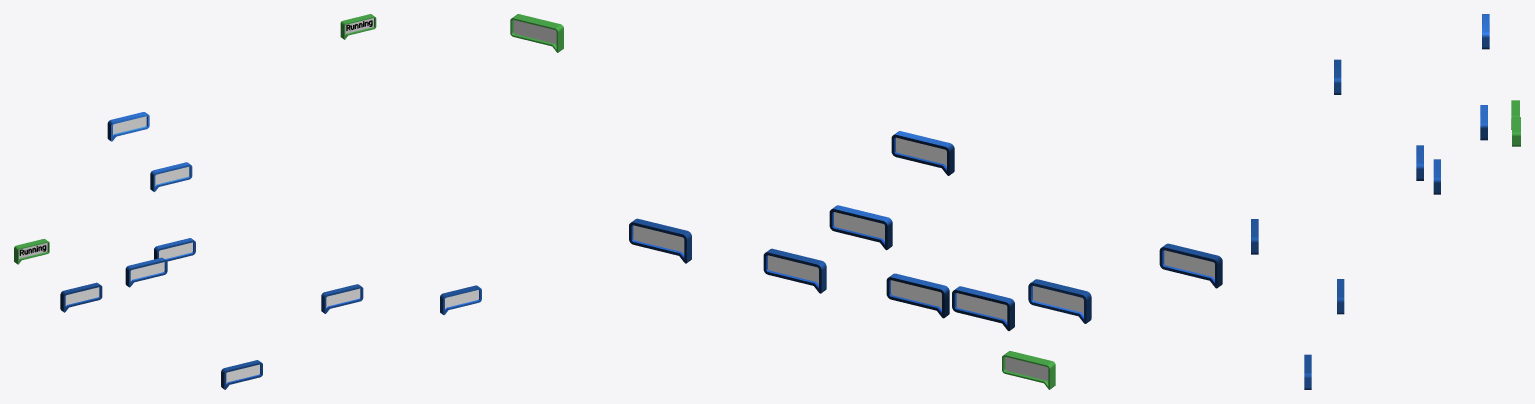
The model's file is pop_up_social_networks.glb.
3 views of the same model, side by side, from view 1: azimuth 30°, elevation 25°; view 2: azimuth 150°, elevation 25°; view 3: azimuth 270°, elevation 25° (orthographic). The views are drawn at different scales.
Visible parts, largest first — view 1: pop_up_contact_me, pop_up_social_networks, pop_up_games, pop_up_share_knowledge, pop_up_development, pop_up_running, pop_up_photography_left, pop_up_stereoscopy, pop_up_running.009, pop_up_running.003; view 2: pop_up_share_knowledge, pop_up_development, pop_up_social_networks, pop_up_games, pop_up_running, pop_up_stereoscopy, pop_up_photography_left, pop_up_contact_me, pop_up_running.003, pop_up_running.009; view 3: pop_up_running, pop_up_photography_left, pop_up_contact_me, pop_up_stereoscopy, pop_up_development, pop_up_social_networks, pop_up_share_knowledge, pop_up_games, pop_up_running.009.
Part boxes in pixels (x1=…): pop_up_contact_me: x1=125, y1=257, x2=167, y2=287; pop_up_social_networks: x1=107, y1=112, x2=149, y2=141; pop_up_games: x1=60, y1=282, x2=102, y2=312; pop_up_share_knowledge: x1=321, y1=284, x2=363, y2=313; pop_up_development: x1=150, y1=162, x2=192, y2=191; pop_up_running: x1=221, y1=360, x2=262, y2=389; pop_up_photography_left: x1=440, y1=285, x2=481, y2=314; pop_up_stereoscopy: x1=154, y1=238, x2=195, y2=261; pop_up_running.009: x1=340, y1=14, x2=376, y2=39; pop_up_running.003: x1=14, y1=238, x2=49, y2=264; pop_up_share_knowledge: x1=763, y1=248, x2=826, y2=293; pop_up_development: x1=829, y1=205, x2=892, y2=250; pop_up_social_networks: x1=891, y1=131, x2=954, y2=175; pop_up_games: x1=1159, y1=243, x2=1222, y2=288; pop_up_running: x1=1028, y1=279, x2=1091, y2=323; pop_up_stereoscopy: x1=886, y1=273, x2=949, y2=318; pop_up_photography_left: x1=629, y1=218, x2=691, y2=263; pop_up_contact_me: x1=952, y1=286, x2=1014, y2=330; pop_up_running.003: x1=1002, y1=351, x2=1055, y2=389; pop_up_running.009: x1=510, y1=14, x2=563, y2=52; pop_up_running: x1=1251, y1=219, x2=1258, y2=254; pop_up_photography_left: x1=1304, y1=354, x2=1311, y2=389; pop_up_contact_me: x1=1416, y1=145, x2=1423, y2=180; pop_up_stereoscopy: x1=1433, y1=159, x2=1440, y2=194; pop_up_development: x1=1480, y1=105, x2=1487, y2=140; pop_up_social_networks: x1=1482, y1=14, x2=1489, y2=49; pop_up_share_knowledge: x1=1337, y1=279, x2=1344, y2=314; pop_up_games: x1=1334, y1=59, x2=1341, y2=94; pop_up_running.009: x1=1512, y1=117, x2=1520, y2=146.
Size of the model in its own units: 33.82 by 18.01 by 17.28.
11 materials, 8 textured.
